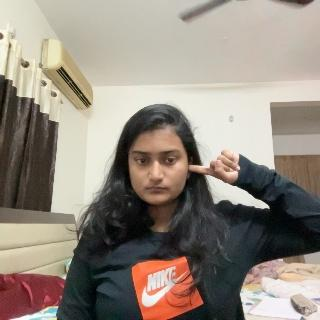Deaf: (190, 148, 263, 194)
Face: (127, 118, 189, 207)
